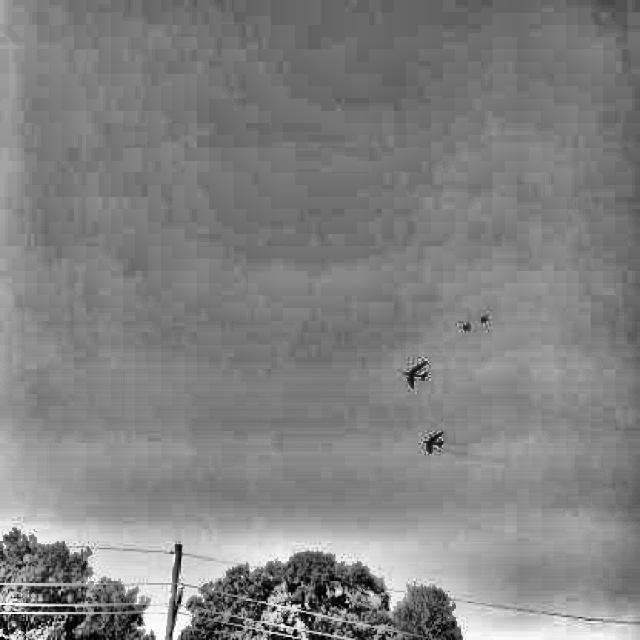B52: (404, 362, 428, 388), (424, 432, 444, 453)
F15: (460, 323, 471, 331), (478, 316, 488, 322)
